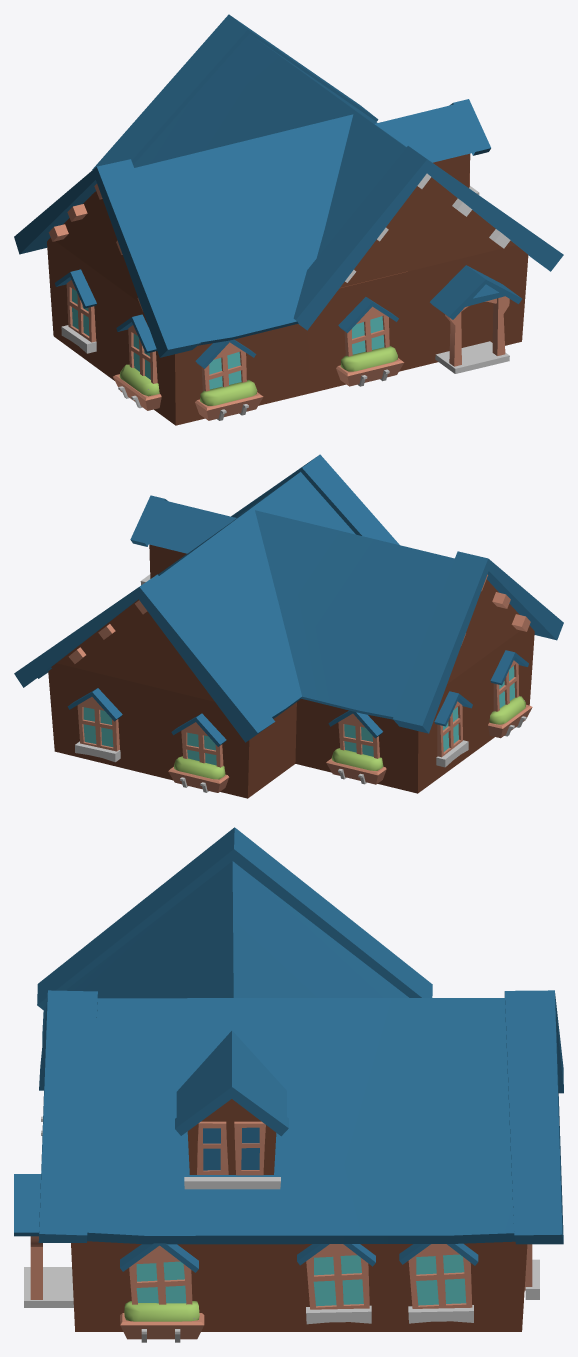
File: House_v1.fbx
3 views of the same model, one above another, from view 1: azimuth 30°, elevation 25°; view 2: azimuth 150°, elevation 25°; view 3: azimuth 270°, elevation 25° (orthographic). The views are drawn at different scales.
Visible parts, largest first — view 1: Roof_16, Roof, Wall_3, Wall_6, Cant_2, Cant_3, Wall_4, Cant_4, Wall_5, Roof_3, Roof_5, Wood_4 (+21 smaller); view 2: Roof_16, Roof, Wall_3, Wall_6, Cant_2, Cant_4, Wall_4, Cant_3, Wall_5, Roof_3, Wood_15, Cant (+21 smaller); view 3: Roof, Roof_16, Wall_3, Cant_4, Cant_3, Cant_2, Roof_3, Cant, Wood_13, Wood_14, Windows_3, Windows_4 (+18 smaller).
Part boxes in pixels (left/top/right/bottom): Roof_16: left=134, top=114, right=353, bottom=345; Roof: left=133, top=34, right=406, bottom=257; Wall_3: left=308, top=245, right=528, bottom=393; Wall_6: left=47, top=238, right=310, bottom=425; Cant_2: left=14, top=159, right=200, bottom=357; Cant_3: left=293, top=146, right=563, bottom=330; Wall_4: left=340, top=177, right=515, bottom=287; Cant_4: left=92, top=14, right=378, bottom=169; Wall_5: left=56, top=191, right=407, bottom=301; Roof_3: left=375, top=104, right=475, bottom=162; Roof_5: left=430, top=265, right=521, bottom=319; Wood_4: left=445, top=296, right=509, bottom=366; Roof_16: left=255, top=510, right=454, bottom=719; Roof: left=38, top=472, right=355, bottom=718; Wall_3: left=48, top=663, right=296, bottom=798; Wall_6: left=295, top=625, right=534, bottom=793; Cant_2: left=393, top=551, right=563, bottom=733; Cant_4: left=14, top=574, right=275, bottom=742; Wall_4: left=56, top=599, right=214, bottom=701; Cant_3: left=231, top=454, right=399, bottom=544; Wall_5: left=447, top=579, right=520, bottom=683; Roof_3: left=145, top=500, right=236, bottom=553; Wood_15: left=77, top=697, right=119, bottom=751; Cant: left=130, top=495, right=167, bottom=546; Roof: left=87, top=998, right=515, bottom=1244; Roof_16: left=42, top=861, right=408, bottom=1044; Wall_3: left=71, top=1241, right=527, bottom=1331; Cant_4: left=504, top=990, right=563, bottom=1244; Cant_3: left=38, top=990, right=97, bottom=1242; Cant_2: left=37, top=827, right=432, bottom=1009; Roof_3: left=176, top=1030, right=286, bottom=1117; Cant: left=175, top=1077, right=288, bottom=1136; Wood_13: left=306, top=1244, right=369, bottom=1309; Wood_14: left=408, top=1244, right=472, bottom=1308; Windows_3: left=313, top=1255, right=363, bottom=1306; Windows_4: left=416, top=1254, right=466, bottom=1305.
Bounding box in the file's own units: 704 × 371 × 659.
